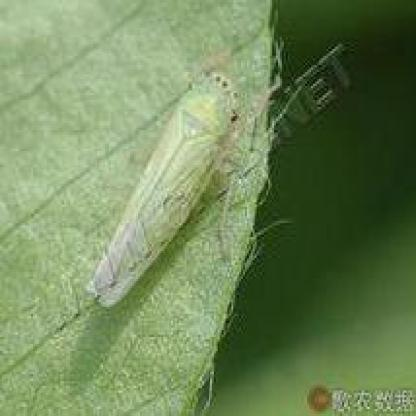Green-Leafhopper: (87, 71, 240, 319)
